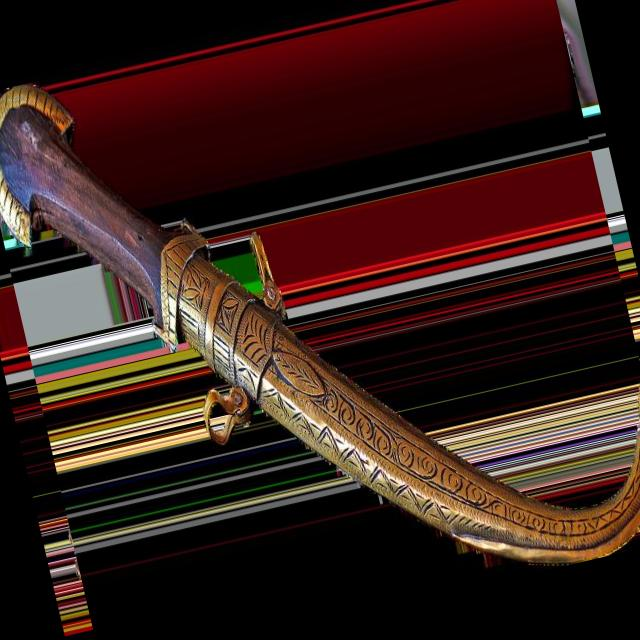Knife: (0, 85, 640, 564)
